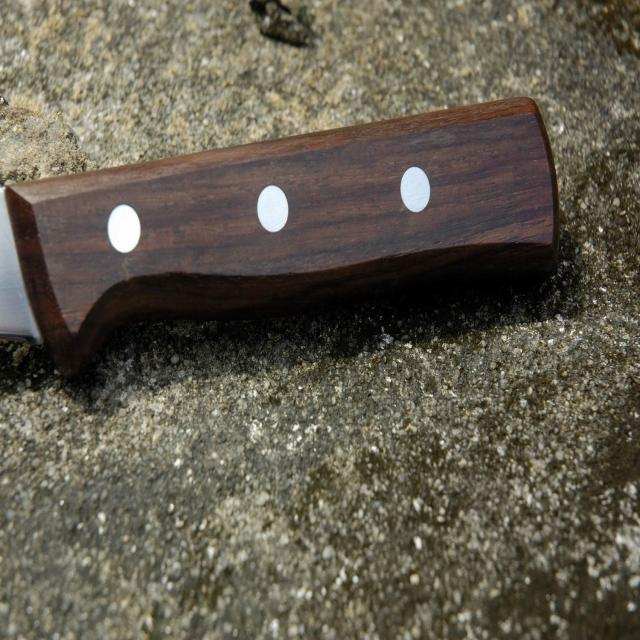Pisau: (0, 84, 561, 370)
